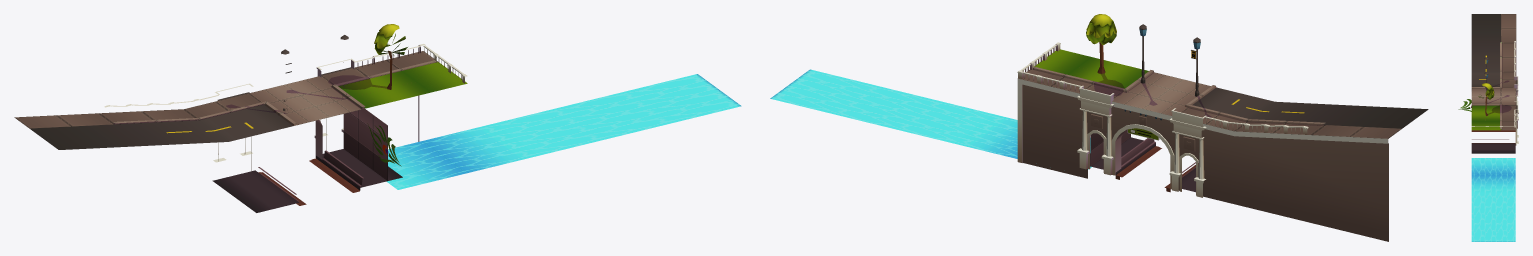
Rendered from 1.100_SanFrancisco_pillars_start.glb.
3 renders of one model, left to right at view 1: azimuth 30°, elevation 25°; view 2: azimuth 150°, elevation 25°; view 3: azimuth 270°, elevation 25°, orthographic. The views are drawn at different scales.
Parts seen in each view (by area): view 1: 1.100_SanFrancisco_pillars_start; view 2: 1.100_SanFrancisco_pillars_start; view 3: 1.100_SanFrancisco_pillars_start.
Part boxes in pixels (left/top/right/bottom): 1.100_SanFrancisco_pillars_start: left=14, top=24, right=741, bottom=212; 1.100_SanFrancisco_pillars_start: left=770, top=14, right=1428, bottom=241; 1.100_SanFrancisco_pillars_start: left=1458, top=14, right=1518, bottom=241.
Size of the model in its own units: 803 by 176 by 126.
3 materials, 3 textured.
